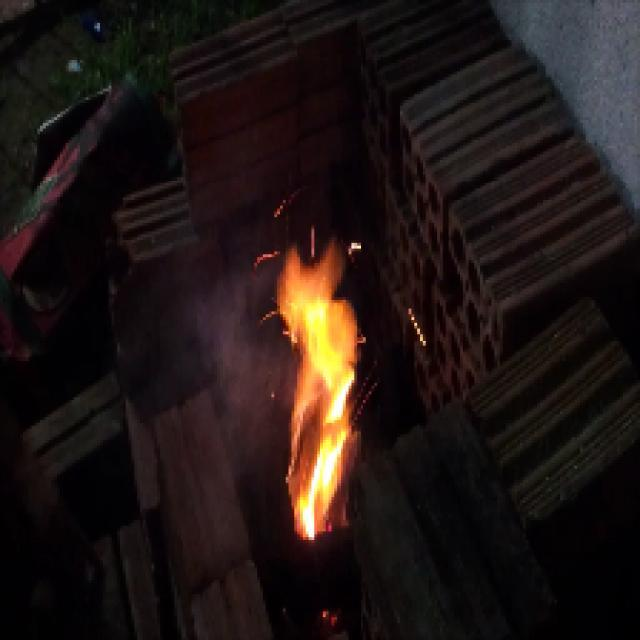Fire: (272, 237, 358, 543)
Smoke: (148, 240, 263, 534)
